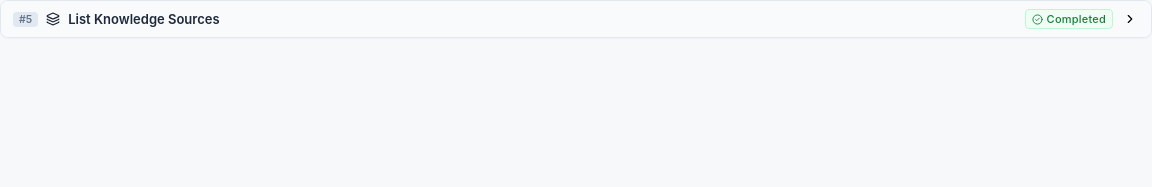
Renderer: ToolExecutionCard › toggles collapsible details on header click
Click the element with test id "tool-card-header-card-05".
click(576, 19)  # box [1,1,1151,37]
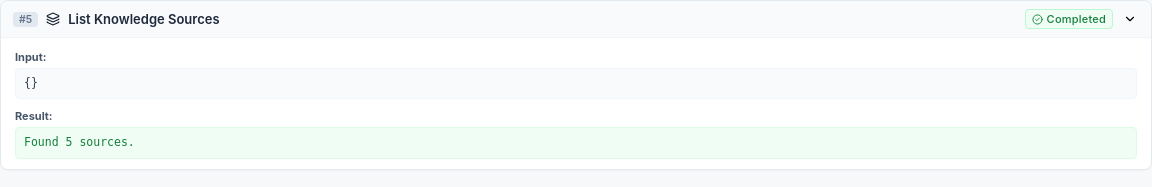
Check: the element with test id "tool-details-card-05" is shown
Check: the text "Found 5 sources." is shown, box [15,127,1137,159]
Click the element with test id "tool-card-header-card-05".
click(576, 19)  # box [1,1,1151,37]
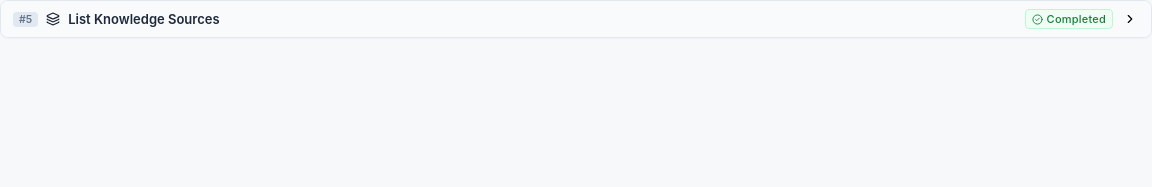
Check: the element with test id "tool-details-card-05" is gone
